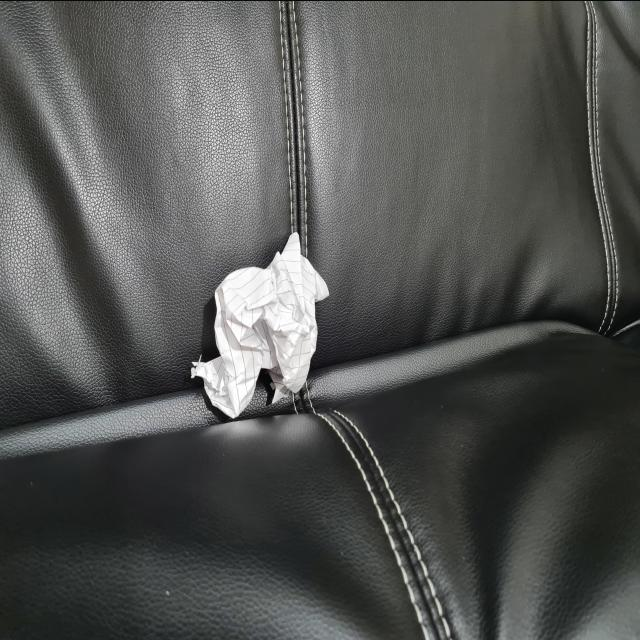Paper: (190, 228, 335, 415)
